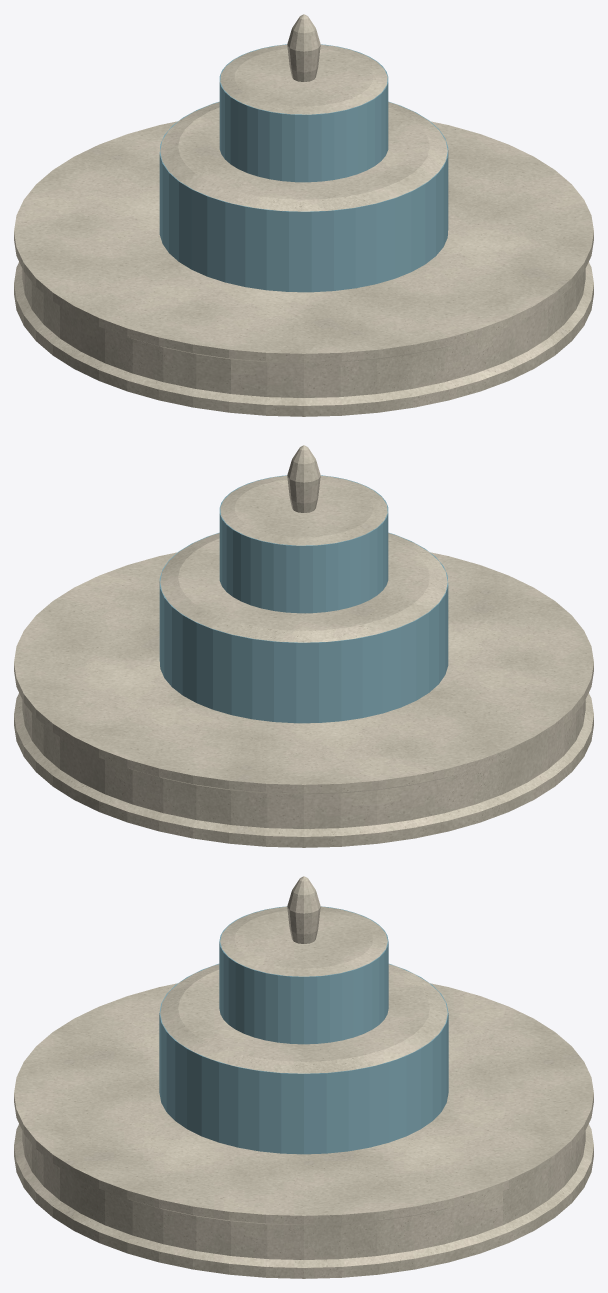
File: fountain.glb
3 views of the same model, one above another, from view 1: azimuth 30°, elevation 25°; view 2: azimuth 150°, elevation 25°; view 3: azimuth 270°, elevation 25° (orthographic).
Parts seen in each view (by area): view 1: fountain_carve, fountain_water; view 2: fountain_carve, fountain_water; view 3: fountain_carve, fountain_water.
Boxes of the visible parts, left/top/right/bottom form: fountain_carve: left=14, top=14, right=593, bottom=416; fountain_water: left=159, top=44, right=448, bottom=292; fountain_carve: left=14, top=445, right=593, bottom=847; fountain_water: left=159, top=475, right=448, bottom=723; fountain_carve: left=14, top=876, right=593, bottom=1278; fountain_water: left=159, top=906, right=448, bottom=1154.
Size of the model in its own units: 4.84 by 2.58 by 4.84.
2 materials, 1 textured.
